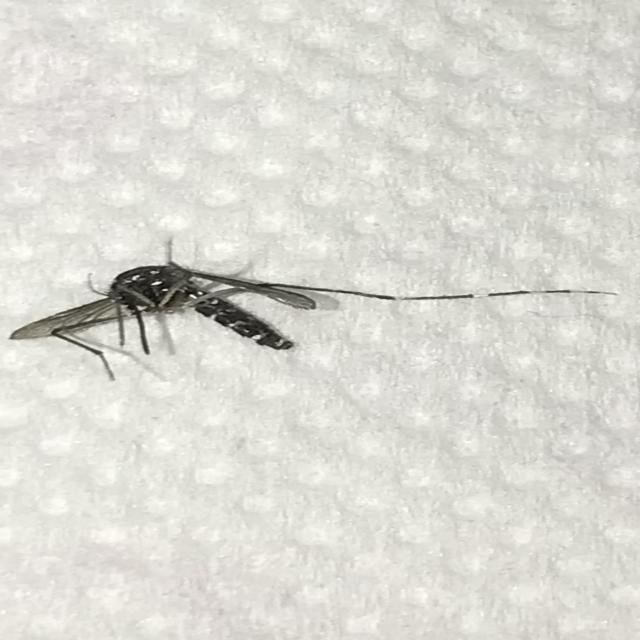albopictus: (18, 220, 598, 383)
